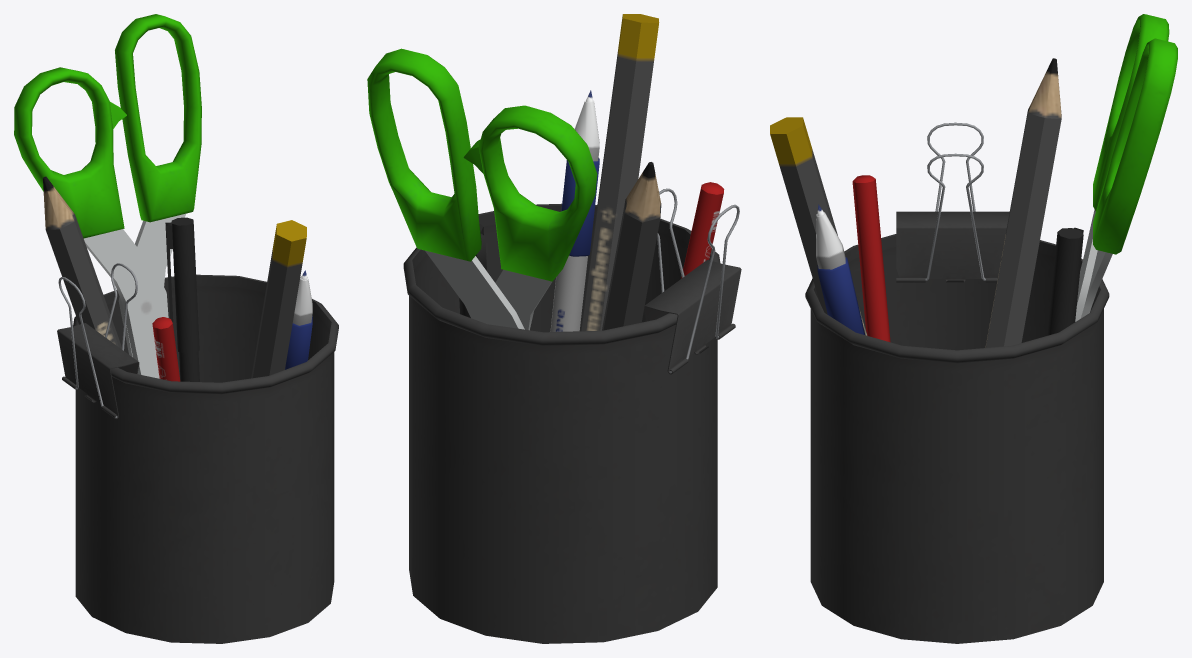
Rendered from GlassWithPencils.fbx.
3 renders of one model, left to right at view 1: azimuth 30°, elevation 25°; view 2: azimuth 150°, elevation 25°; view 3: azimuth 270°, elevation 25°, orthographic. The views are drawn at different scales.
Visible parts, largest first — view 1: GlassWithPencils_LOD0; view 2: GlassWithPencils_LOD0; view 3: GlassWithPencils_LOD0.
Part boxes in pixels (<box>): GlassWithPencils_LOD0: <box>14,14,338,643</box>; GlassWithPencils_LOD0: <box>367,14,741,643</box>; GlassWithPencils_LOD0: <box>770,14,1177,643</box>.
Size of what is drawn, in the model's own units: 11.23 by 21.02 by 13.91.
